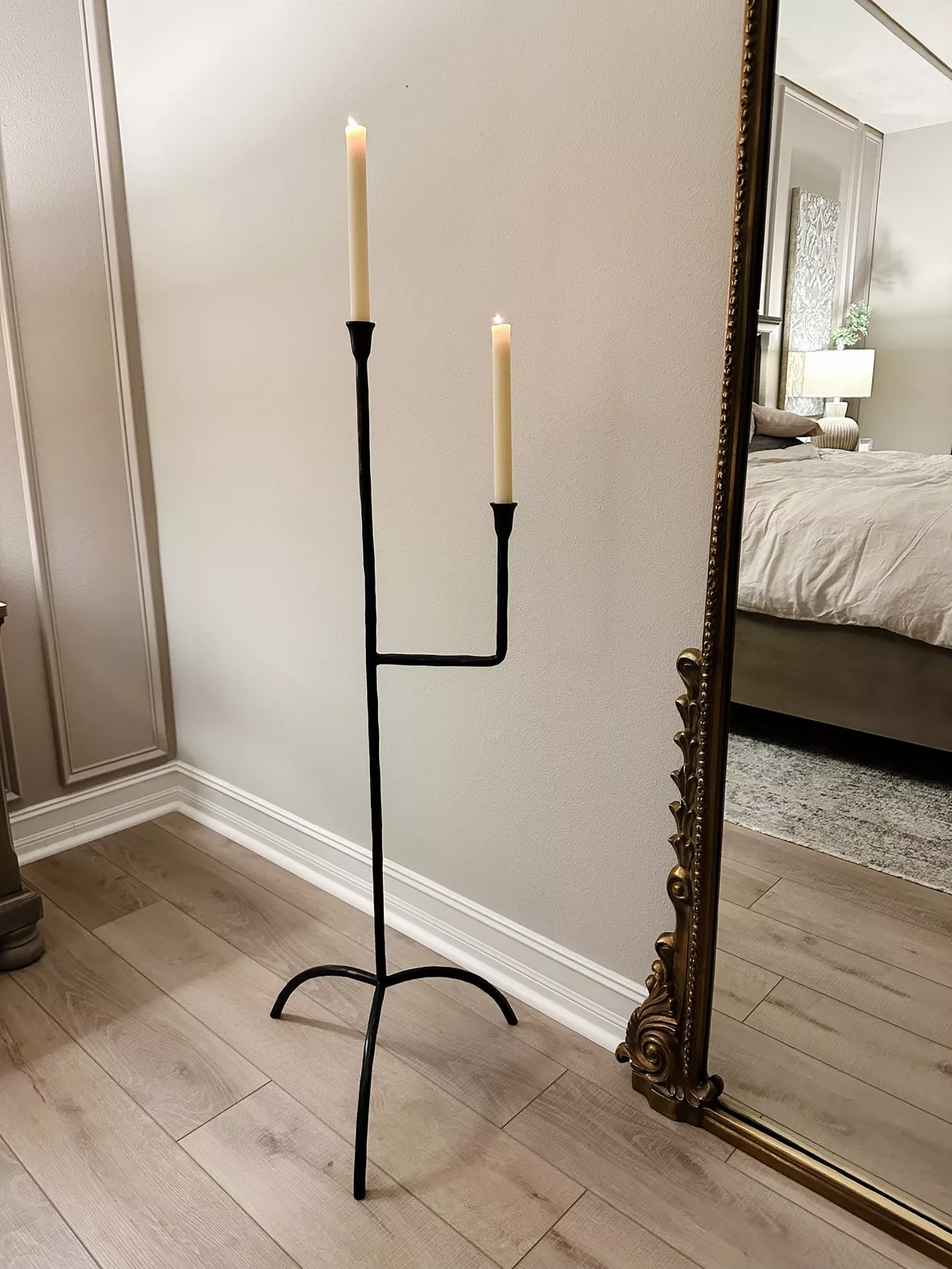Open-Flame-Hazard: (442, 288, 555, 530), (321, 86, 386, 333)
